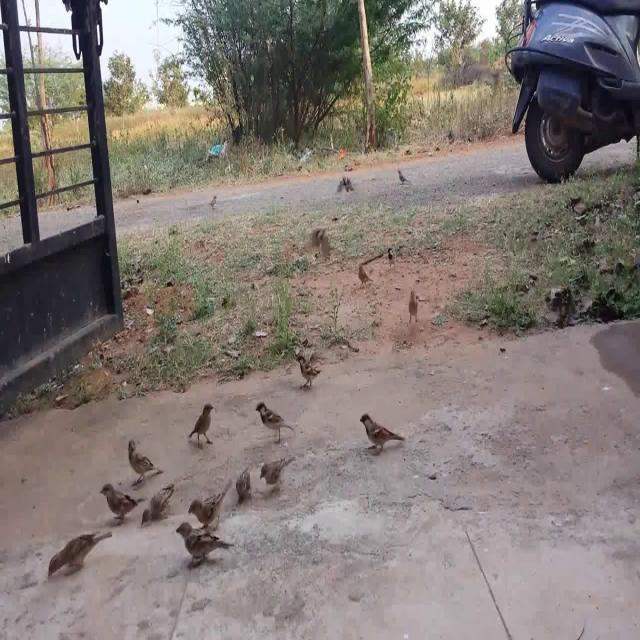bird: (47, 530, 114, 585), (172, 521, 228, 568), (355, 412, 405, 454), (189, 479, 232, 526), (182, 401, 220, 450), (98, 482, 141, 522), (123, 437, 160, 482), (142, 479, 179, 524), (252, 397, 291, 439), (291, 350, 328, 390), (254, 455, 291, 491), (232, 466, 257, 511), (306, 226, 333, 264), (407, 287, 419, 330), (334, 178, 356, 198), (356, 264, 373, 288)
